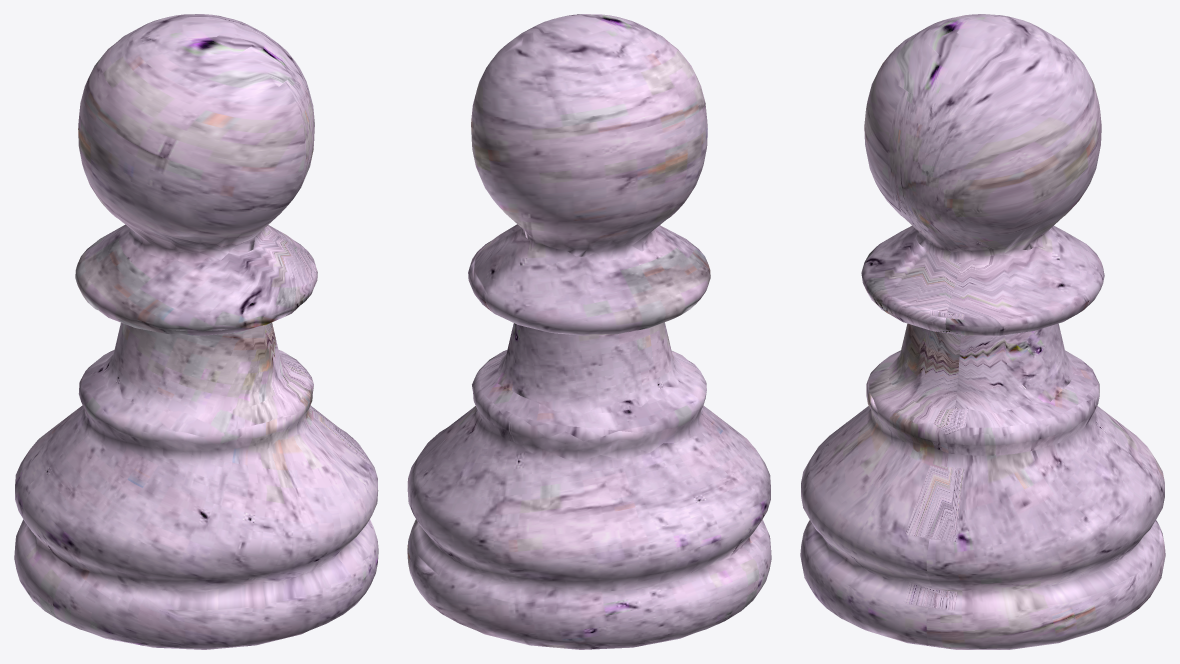
Rendered from white_pawn.glb.
The picture shows the model from 3 angles, left to right: view 1: azimuth 30°, elevation 25°; view 2: azimuth 150°, elevation 25°; view 3: azimuth 270°, elevation 25°; orthographic projection.
Visible parts, largest first — view 1: Circle.019; view 2: Circle.019; view 3: Circle.019.
Part boxes in pixels (bbox=[...]): Circle.019: bbox=[14, 14, 378, 649]; Circle.019: bbox=[407, 14, 771, 649]; Circle.019: bbox=[800, 14, 1165, 649].
Size of the model in its own units: 1.14 by 1.91 by 1.14.
1 material, 1 textured.
